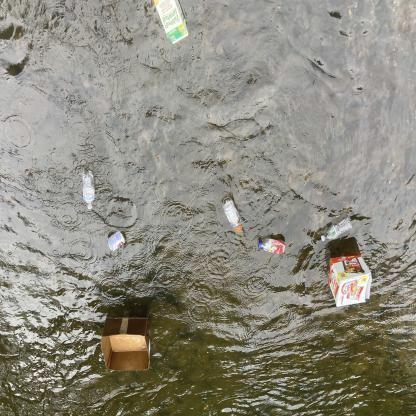Metal: (106, 228, 130, 254)
Plastic: (319, 210, 354, 244), (221, 194, 244, 237), (79, 165, 97, 213), (254, 233, 288, 258)
